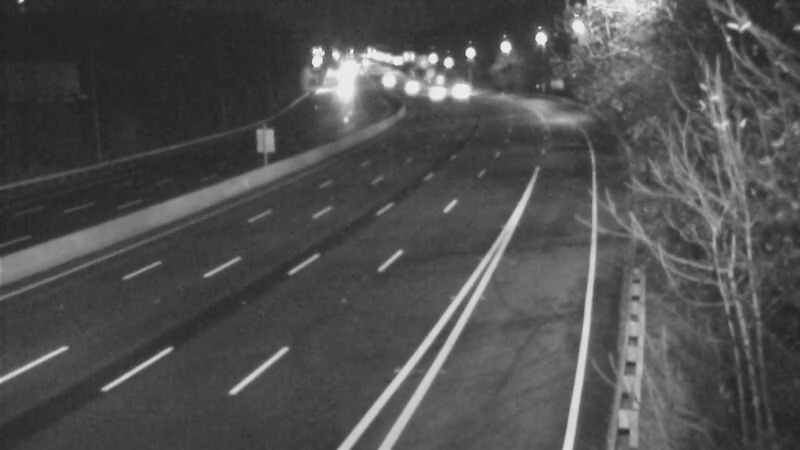vehicle: (359, 55, 409, 105), (381, 60, 431, 110), (407, 67, 457, 117), (434, 64, 484, 114)
